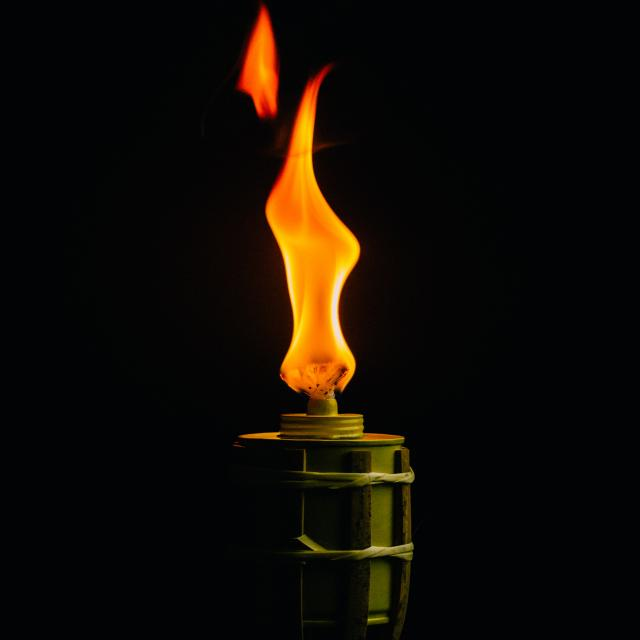fire: (221, 0, 370, 399)
